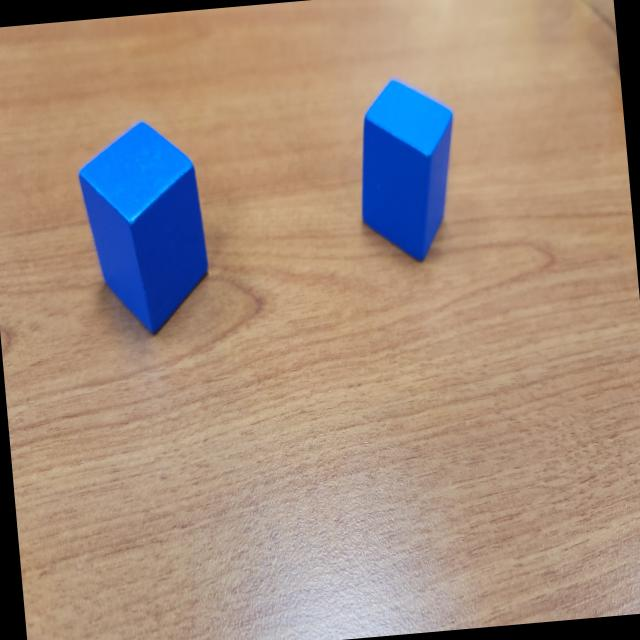blue: (72, 114, 215, 339), (348, 71, 466, 269)
